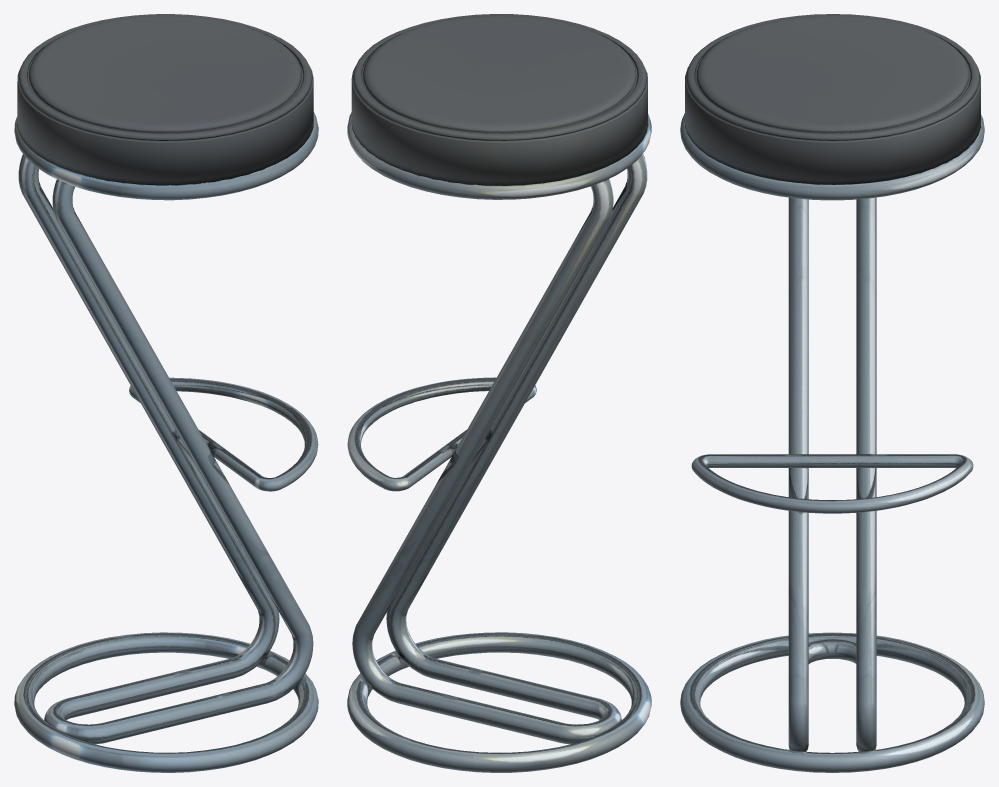
The model's file is patti_white_chrome_plated.glb.
3 views of the same model, side by side, from view 1: azimuth 30°, elevation 25°; view 2: azimuth 150°, elevation 25°; view 3: azimuth 270°, elevation 25° (orthographic).
Parts seen in each view (by area): view 1: patti-grey; view 2: patti-grey; view 3: patti-grey.
Part boxes in pixels (box(x1,y1,x2,y2)): patti-grey: box(14, 14, 318, 772); patti-grey: box(347, 14, 651, 772); patti-grey: box(680, 14, 984, 772).
Size of the model in its own units: 0.364 by 0.8447 by 0.364.
Materials: 1 (1 with a texture image).
